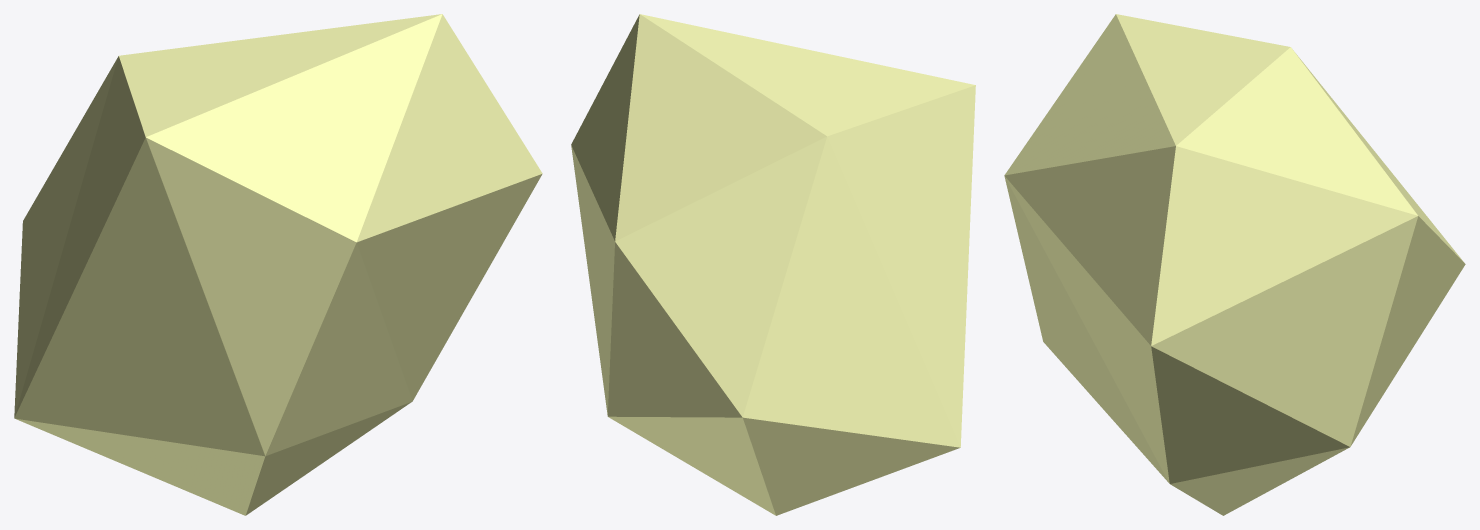
3 views of the same model, side by side, from view 1: azimuth 30°, elevation 25°; view 2: azimuth 150°, elevation 25°; view 3: azimuth 270°, elevation 25° (orthographic). The views are drawn at different scales.
Parts seen in each view (by area): view 1: Meteor_3.001; view 2: Meteor_3.001; view 3: Meteor_3.001.
Boxes of the visible parts, <box> form: Meteor_3.001: <box>14,14,542,515</box>; Meteor_3.001: <box>571,14,975,515</box>; Meteor_3.001: <box>1004,14,1465,515</box>.
Bounding box in the file's own units: 0.1786 × 0.1609 × 0.1726.
